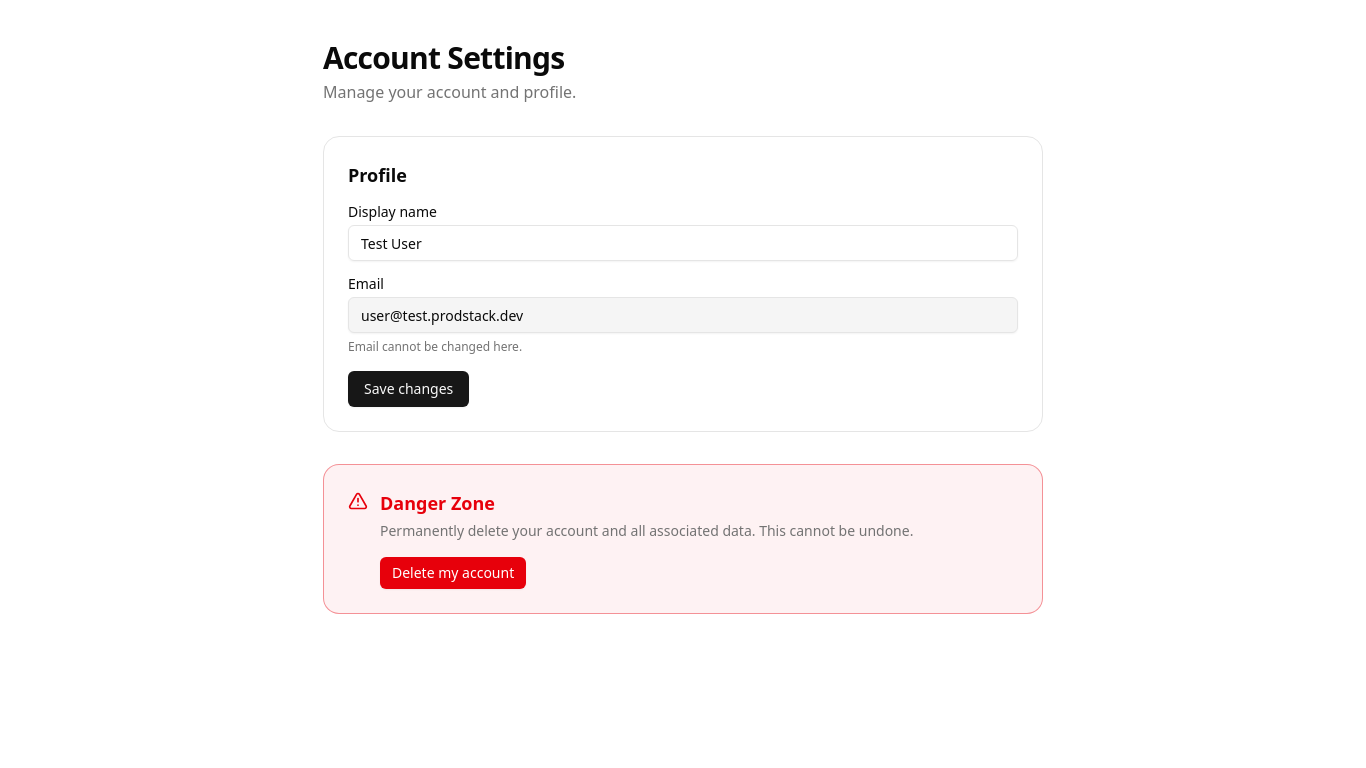
Scenario: SettingsPage › clicking 'Delete my account' opens confirmation dialog
The width and height of the screenshot is (1366, 768).
What coordinates should you click on to do the following:
click the button "Delete my account"
I would click on:
 (453, 573)
Its box is [380,557,526,589].
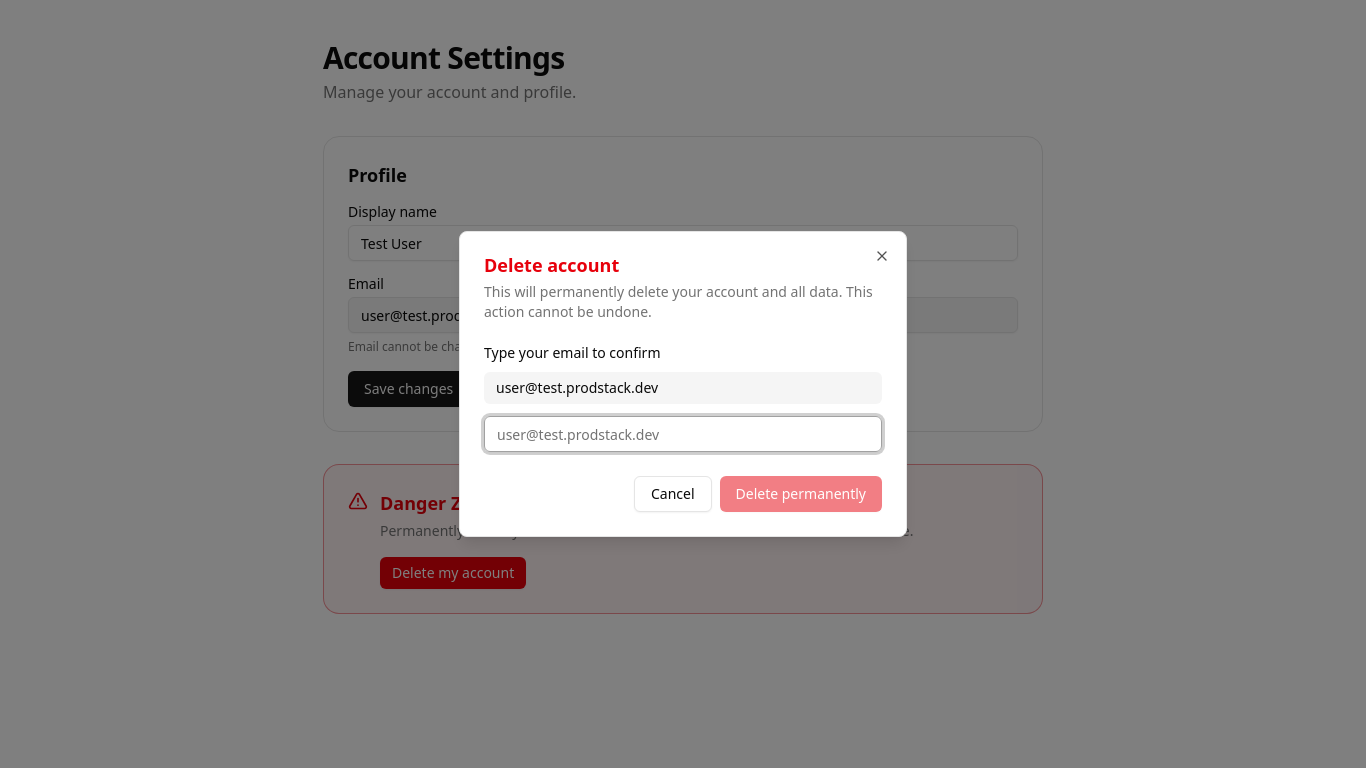
Check: the dialog is shown, box [459,231,907,537]
